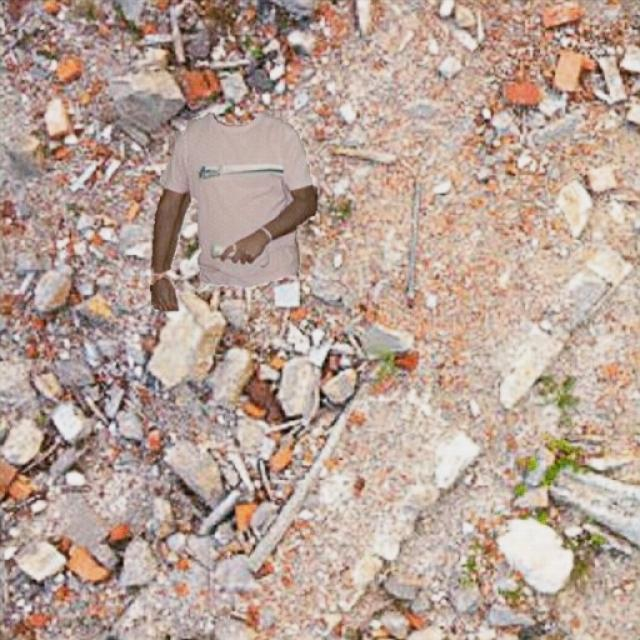Person in Rubble: (150, 111, 316, 310)
